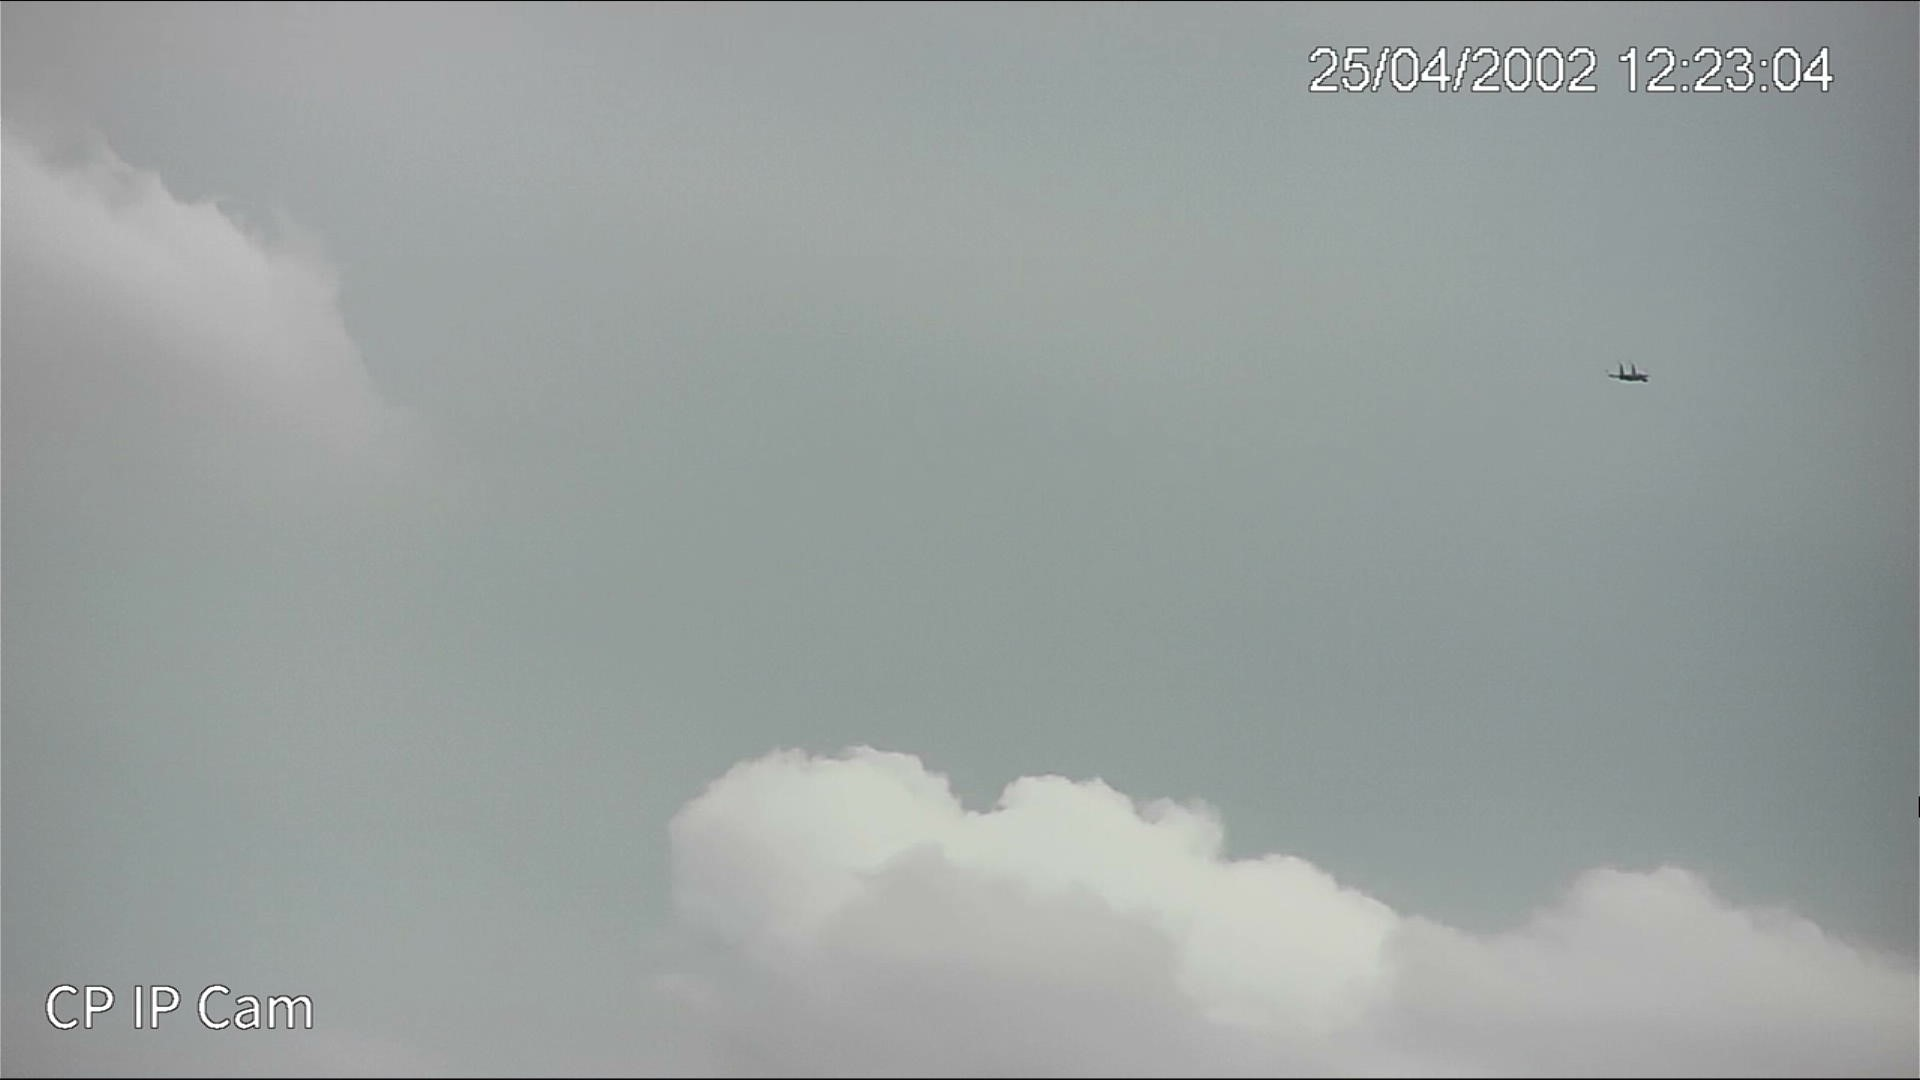SU_30: (1607, 364, 1648, 386)
